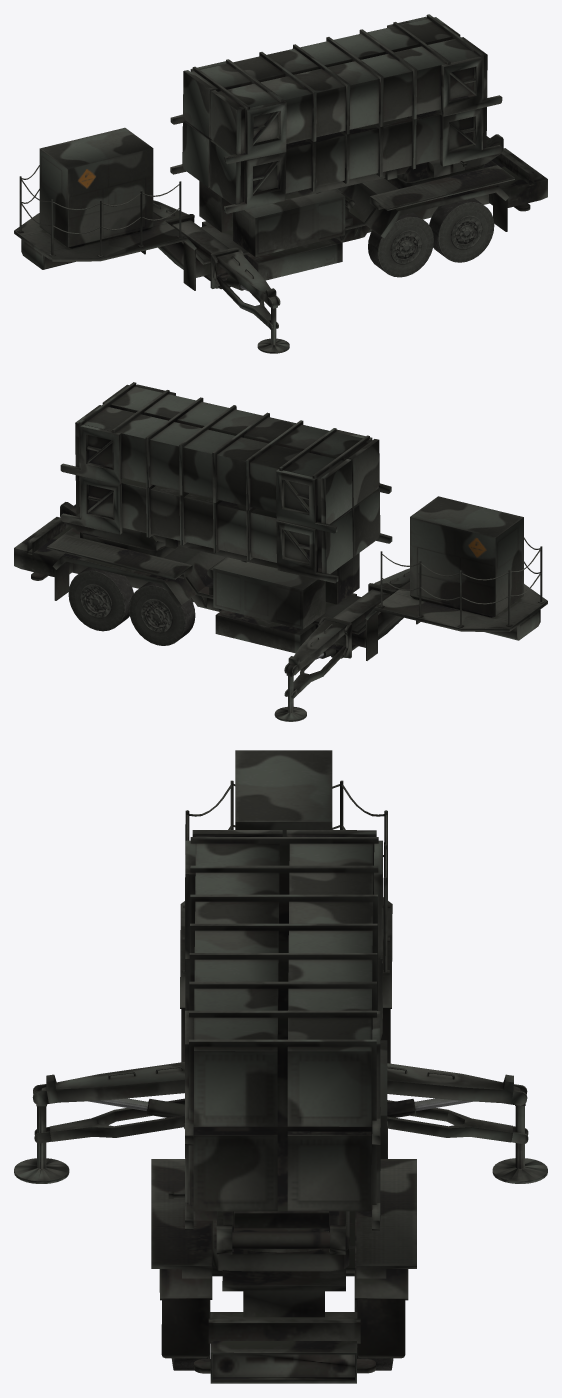
The model's file is patriot_towable.fbx.
3 renders of one model, top to bottom at view 1: azimuth 30°, elevation 25°; view 2: azimuth 150°, elevation 25°; view 3: azimuth 270°, elevation 25°, orthographic. The views are drawn at different scales.
Parts seen in each view (by area): view 1: axe_canon_01, chassis, roue_04, roue_03, Bras_Gauche, tourelle_01; view 2: axe_canon_01, chassis, roue_02, roue_01, Bras_Droite, tourelle_01; view 3: axe_canon_01, chassis, Bras_Gauche, Bras_Droite, tourelle_01, ggg.
Part boxes in pixels (<box>): axe_canon_01: <box>170,14,502,213</box>; chassis: <box>14,127,547,290</box>; roue_04: <box>429,198,494,262</box>; roue_03: <box>368,212,433,277</box>; Bras_Gauche: <box>216,251,289,353</box>; tourelle_01: <box>384,134,503,188</box>; axe_canon_01: <box>60,382,392,583</box>; chassis: <box>14,496,547,660</box>; roue_02: <box>68,567,133,631</box>; roue_01: <box>129,581,195,645</box>; Bras_Droite: <box>274,619,346,721</box>; tourelle_01: <box>60,502,178,557</box>; axe_canon_01: <box>168,830,382,1252</box>; chassis: <box>151,750,416,1383</box>; Bras_Gauche: <box>14,1062,184,1183</box>; Bras_Droite: <box>387,1063,547,1183</box>; tourelle_01: <box>193,1211,349,1271</box>; ggg: <box>232,1231,329,1248</box>.
Bounding box in the file's own units: 11.46 × 6.26 × 4.53.
2 materials, 2 textured.
